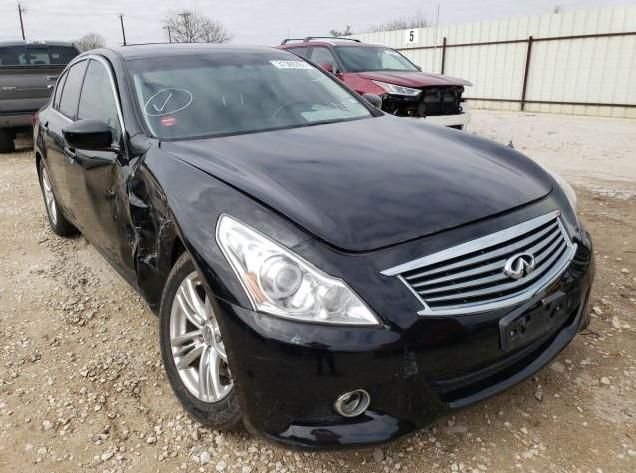Back-door: (40, 56, 90, 229)
Back-wheel: (40, 159, 81, 236)
Back-window: (53, 60, 87, 121)
Fender: (129, 132, 311, 315)
Front-bumper: (205, 176, 593, 449)
Front-door: (64, 55, 138, 285)
Front-wheel: (157, 251, 242, 429)
Front-window: (74, 60, 124, 144)
Grille: (388, 211, 575, 316)
Headlight: (215, 213, 385, 328), (518, 151, 577, 215)
Hood: (161, 115, 554, 252)
Mirror: (62, 119, 125, 155)
Quarter-panel: (33, 106, 51, 173)
Roof: (105, 44, 290, 60)
Windshield: (124, 53, 374, 142)
